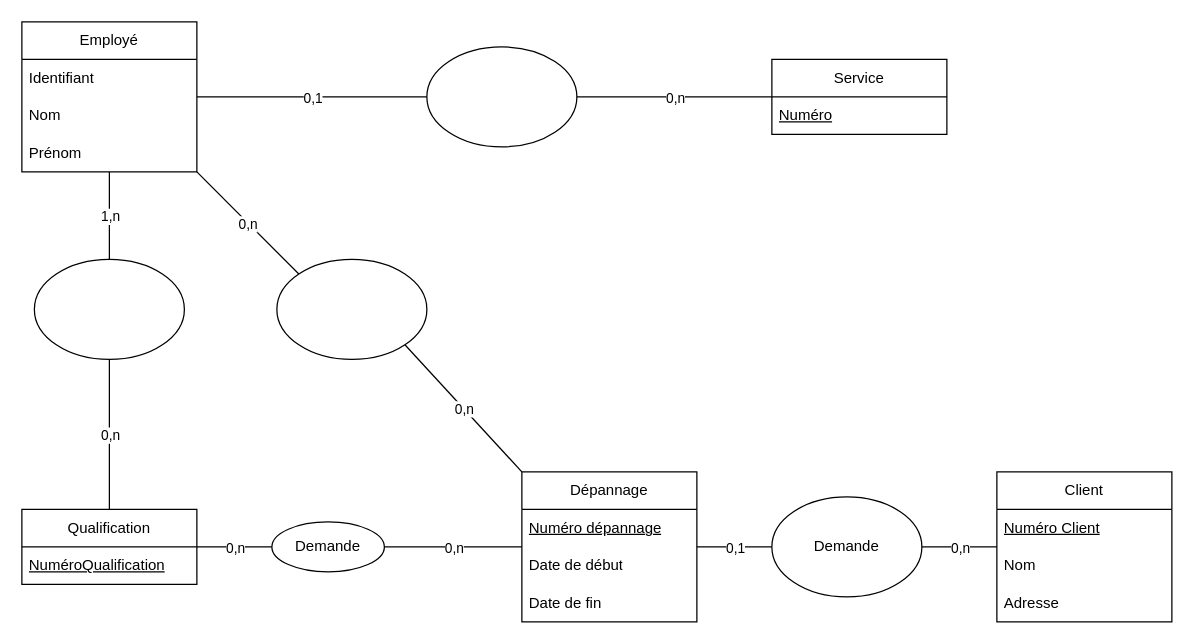
Image size: 1194x644. Some labels were removed from this diagram. The shapes that lost their labels are listed below. From the top down, each one's centre as x and y in pixels, then its label:
the point at 501,96: Travaille dans
the point at 108,308: Possède
the point at 351,308: Intervient
